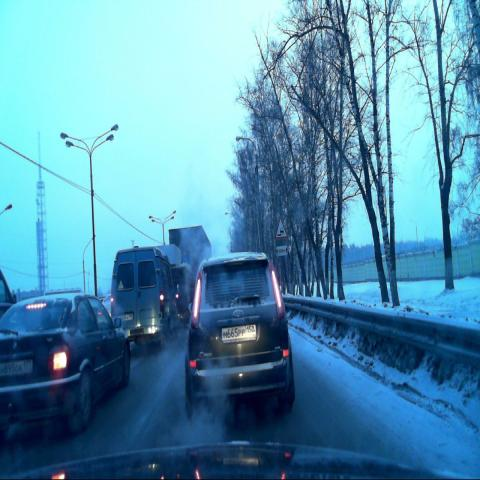1_19: (275, 219, 287, 240)
